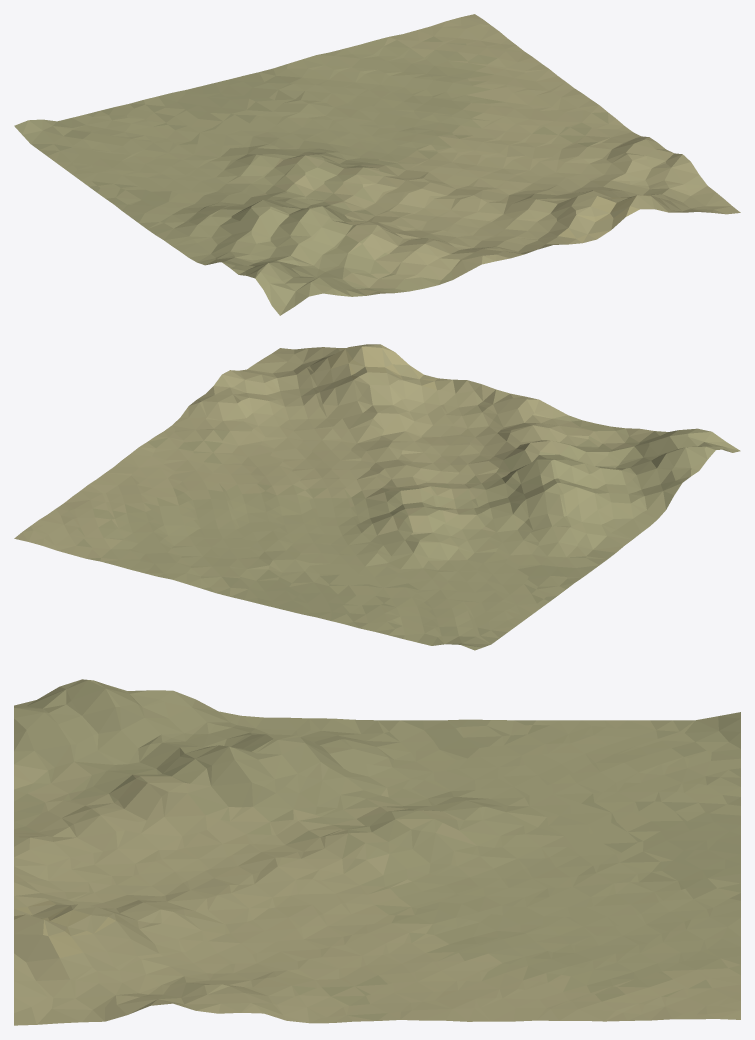
The model's file is Ground_6_2.glb.
The picture shows the model from 3 angles, top to bottom: view 1: azimuth 30°, elevation 25°; view 2: azimuth 150°, elevation 25°; view 3: azimuth 270°, elevation 25°; orthographic projection. The views are drawn at different scales.
Parts seen in each view (by area): view 1: Ground_6_2; view 2: Ground_6_2; view 3: Ground_6_2.
Boxes of the visible parts, left/top/right/bottom form: Ground_6_2: left=14, top=14, right=740, bottom=315; Ground_6_2: left=14, top=344, right=740, bottom=650; Ground_6_2: left=14, top=679, right=740, bottom=1025.
Size of the model in its own units: 768 by 53.91 by 768.
